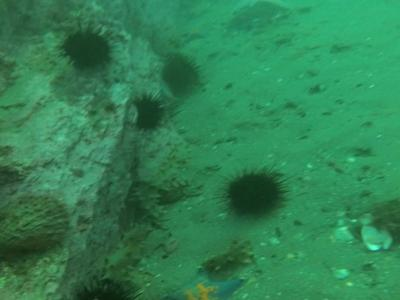holothurian: (200, 238, 259, 279)
urchin: (229, 171, 284, 215), (61, 27, 109, 70), (70, 269, 141, 296), (160, 53, 203, 95), (129, 95, 163, 132)
